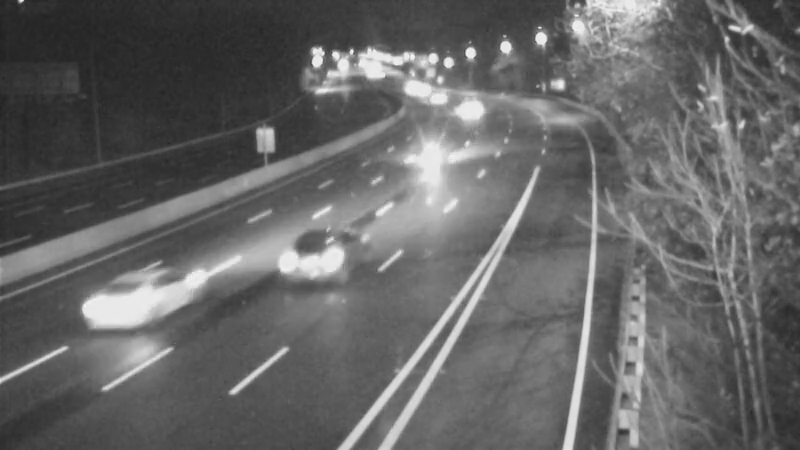vehicle: (69, 254, 179, 364), (388, 115, 468, 195), (274, 221, 354, 301), (379, 62, 429, 112), (404, 66, 454, 116), (419, 71, 469, 121), (441, 86, 491, 136)
